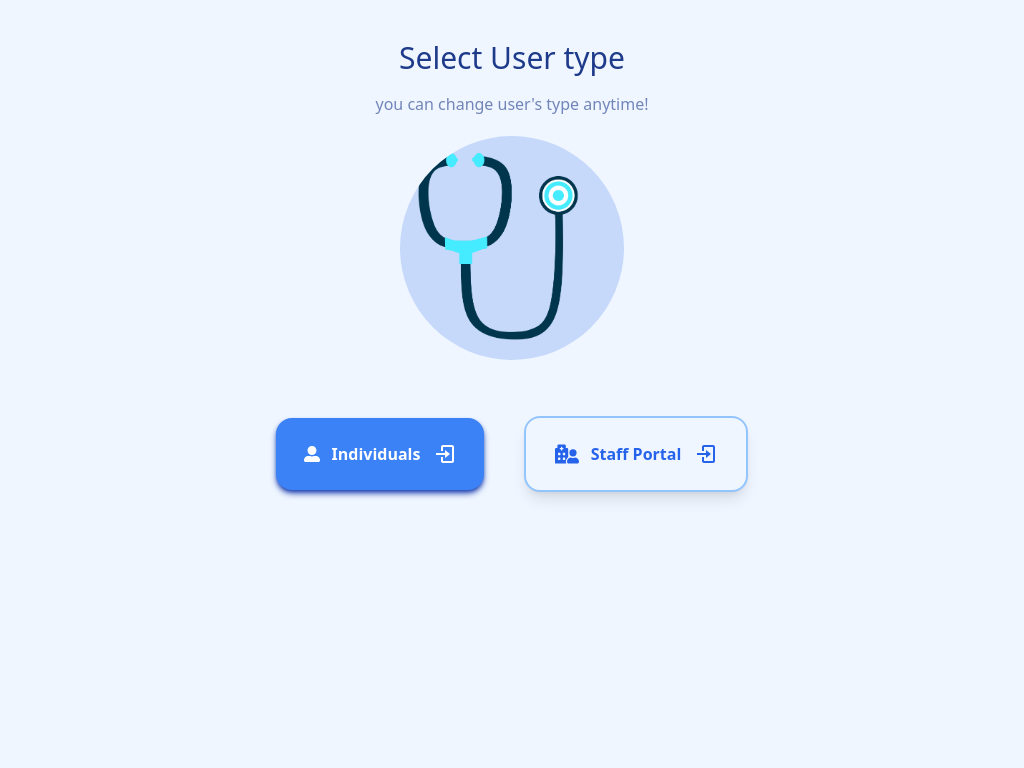
Can navigate to patient portal and able to register and login › It logins user successfully
Click the button with id "individuals". click: click(380, 454)
box: [276,418,484,490]
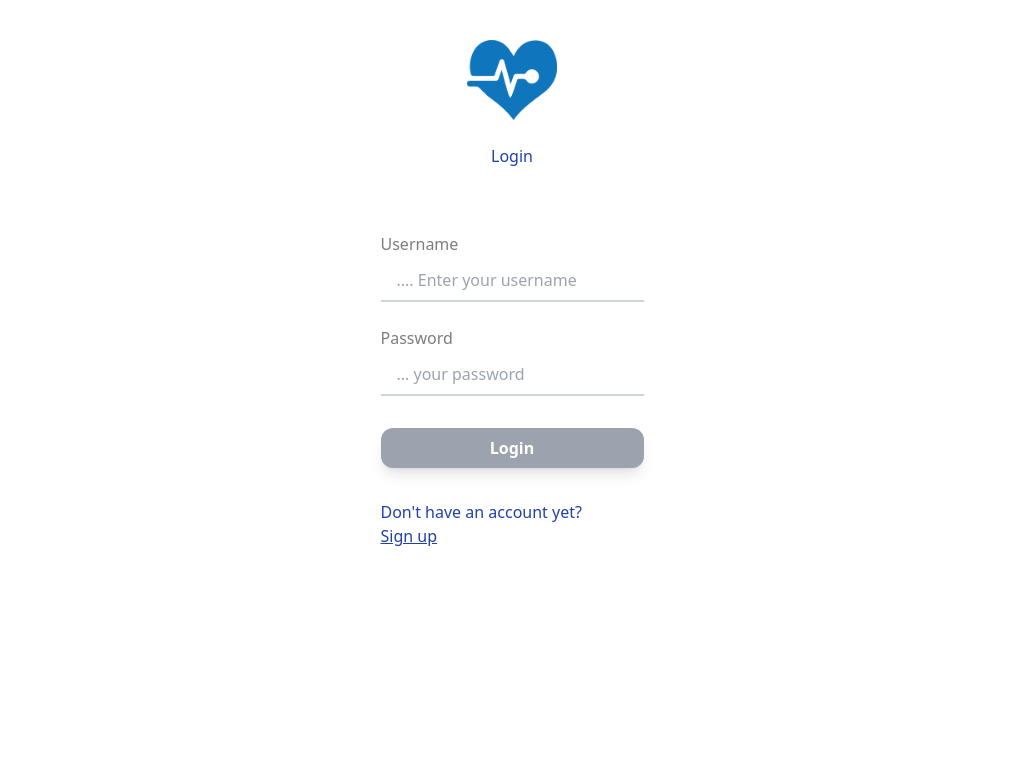
Type "test_user6" into the field with id "username". click: (513, 281)
box: [381,260,644,302]
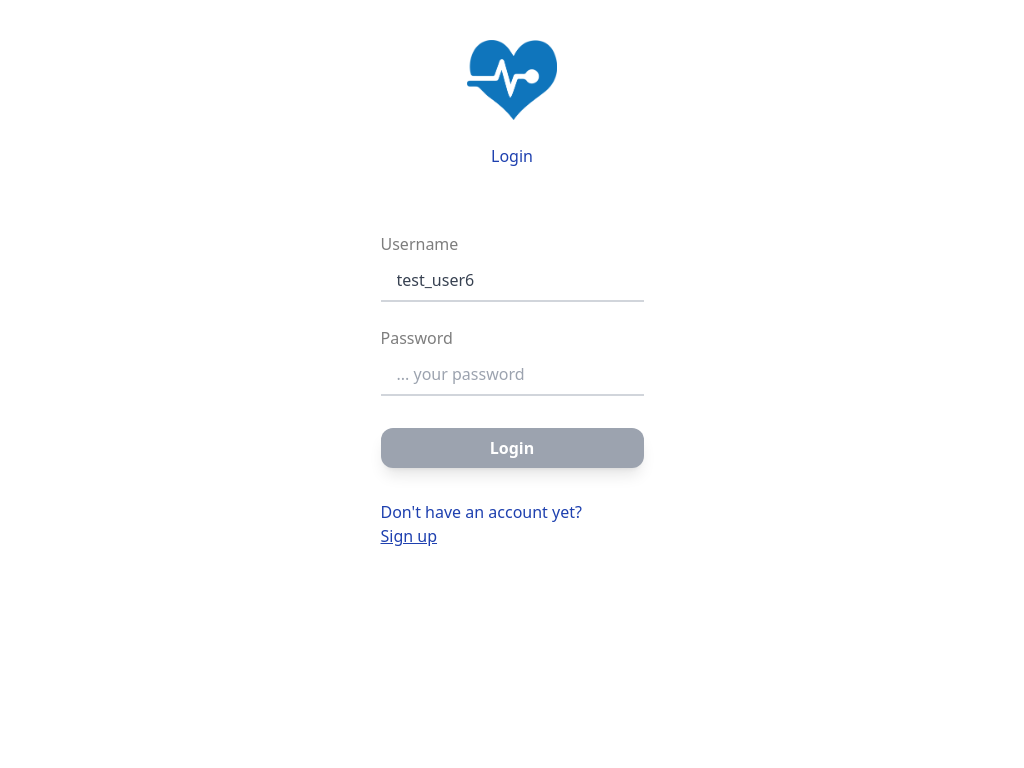
Type "Password123" into the password field with placeholder "... your password". click: (513, 375)
box: [381,354,644,396]
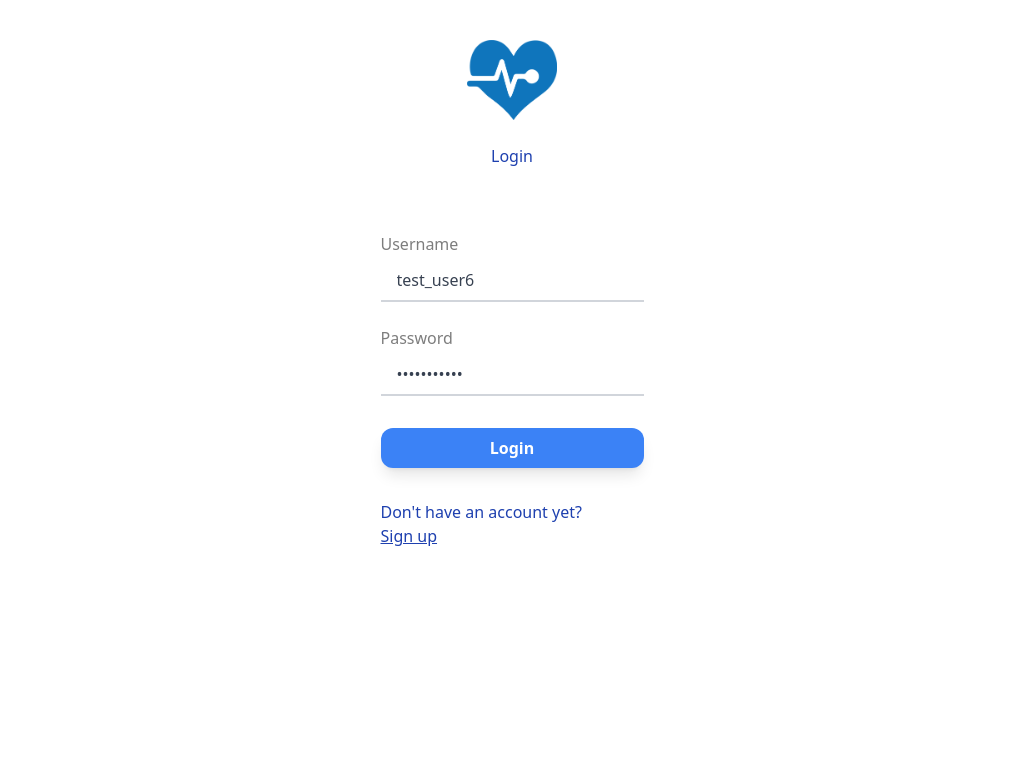
Click the button "Login". click: click(513, 448)
box: [381,428,644,468]
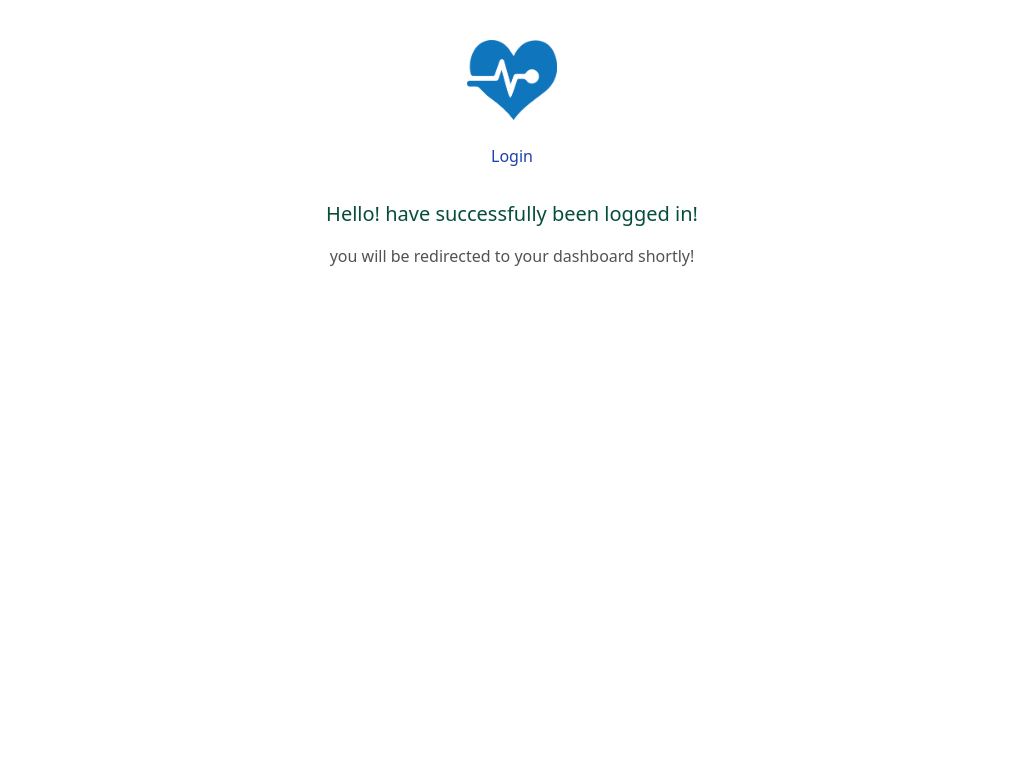
Expected: the text "Hello! have successfully been logged in!" is shown, [326,200,698,228]
